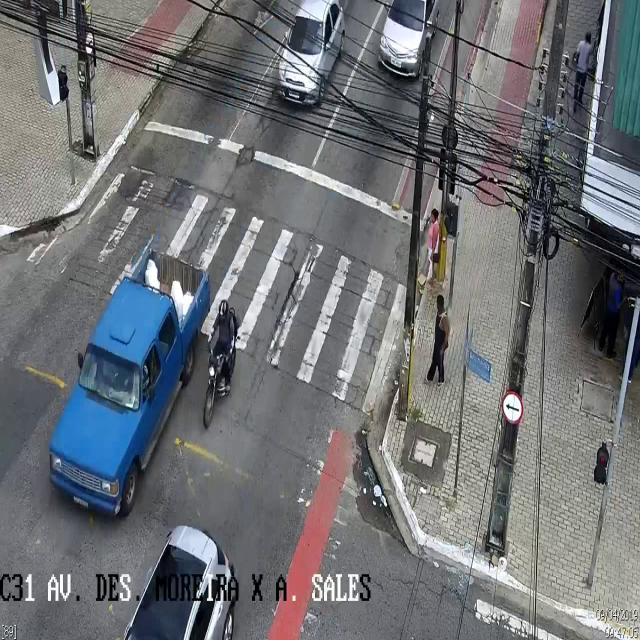Car: (50, 250, 212, 519), (108, 512, 261, 640), (277, 2, 345, 106), (376, 1, 436, 80)
Motorcycle: (204, 300, 236, 436)
